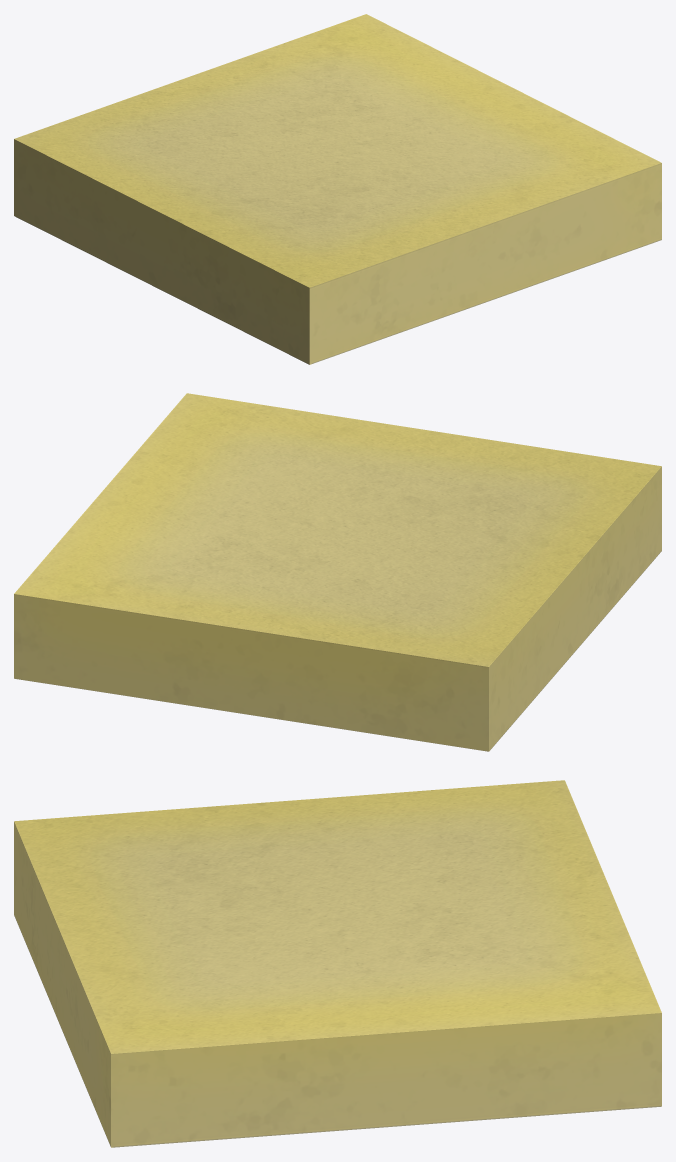
Rendered from Sticky Notes.glb.
3 renders of one model, top to bottom at view 1: azimuth 30°, elevation 25°; view 2: azimuth 150°, elevation 25°; view 3: azimuth 270°, elevation 25°, orthographic. The views are drawn at different scales.
Visible parts, largest first — view 1: Object_6.003; view 2: Object_6.003; view 3: Object_6.003.
Part boxes in pixels (x1,y1,x2,y2): Object_6.003: (14, 14, 661, 364); Object_6.003: (14, 393, 661, 751); Object_6.003: (14, 780, 661, 1147).
Bounding box in the file's own units: 0.088 × 0.0141 × 0.088.
1 material, 1 textured.
